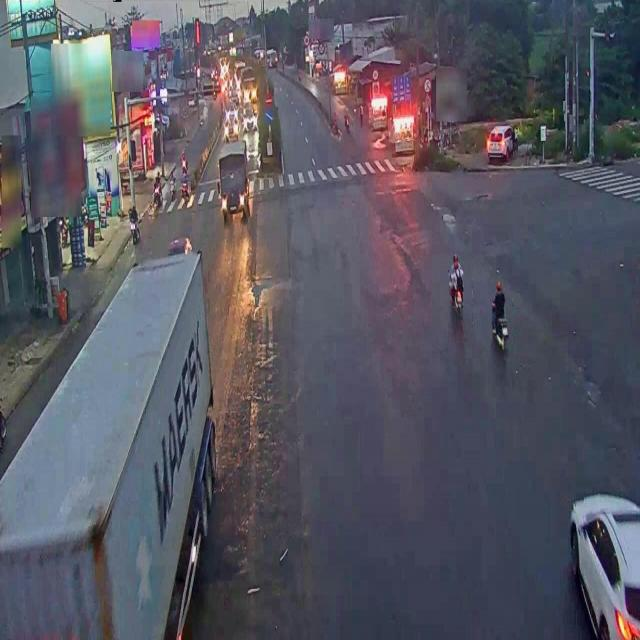motorcycle: (446, 250, 466, 330), (492, 278, 509, 354)
truck: (0, 239, 222, 640), (218, 141, 248, 224)
